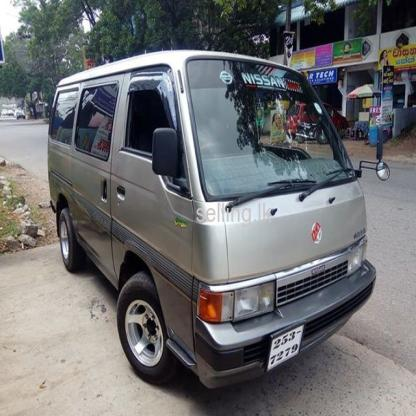number plate: (268, 322, 303, 376)
van front: (47, 51, 388, 402)
